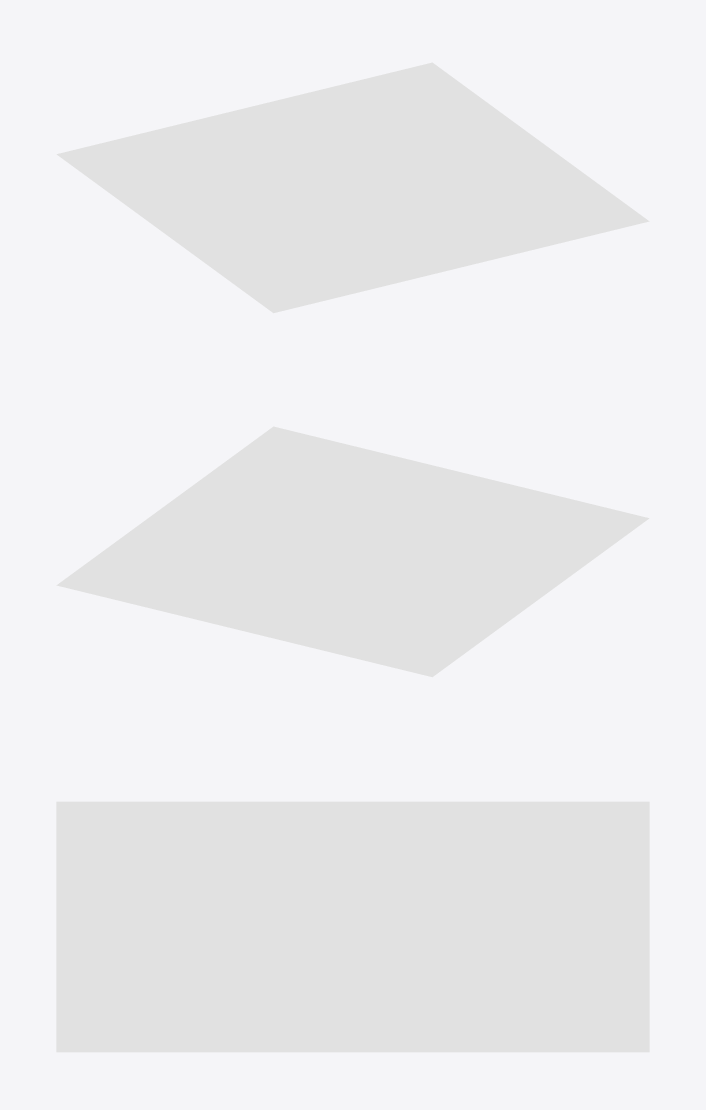
File: Lights_Geo.fbx
3 views of the same model, one above another, from view 1: azimuth 30°, elevation 25°; view 2: azimuth 150°, elevation 25°; view 3: azimuth 270°, elevation 25° (orthographic). The views are drawn at different scales.
Visible parts, largest first — view 1: polySurface5.012; view 2: polySurface5.012; view 3: polySurface5.012.
Part boxes in pixels (<box>): polySurface5.012: <box>56,62,649,313</box>; polySurface5.012: <box>56,426,649,677</box>; polySurface5.012: <box>56,801,649,1052</box>.
Bounding box in the file's own units: 85.62 × 9.39 × 85.62.
Materials: 1 (1 with a texture image).
